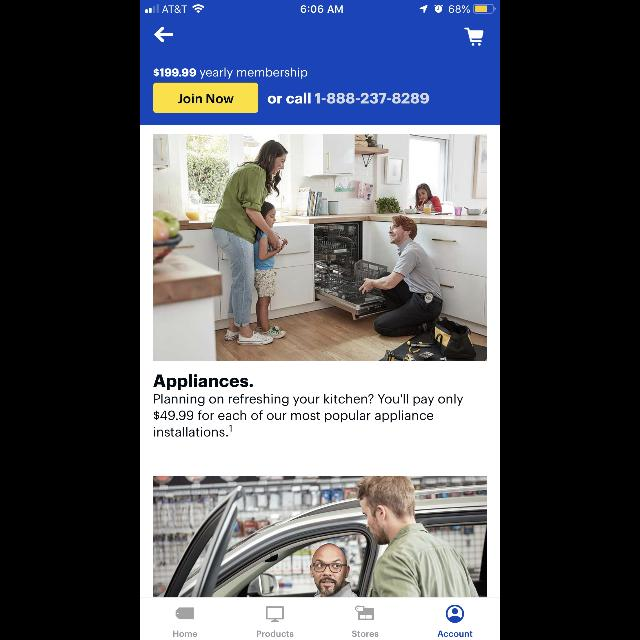icon: (464, 28, 484, 46), (446, 605, 464, 623), (154, 27, 174, 43), (176, 607, 194, 619)
image: (154, 135, 486, 361), (154, 475, 486, 597), (266, 606, 284, 622), (356, 606, 374, 620)
text: (154, 394, 462, 436), (267, 92, 428, 104), (153, 374, 253, 390), (154, 68, 308, 78), (256, 631, 294, 637), (438, 631, 472, 637), (352, 631, 378, 637), (174, 631, 198, 637)
textbutton: (154, 82, 258, 114)
uppertaskbar: (140, 0, 500, 14)
